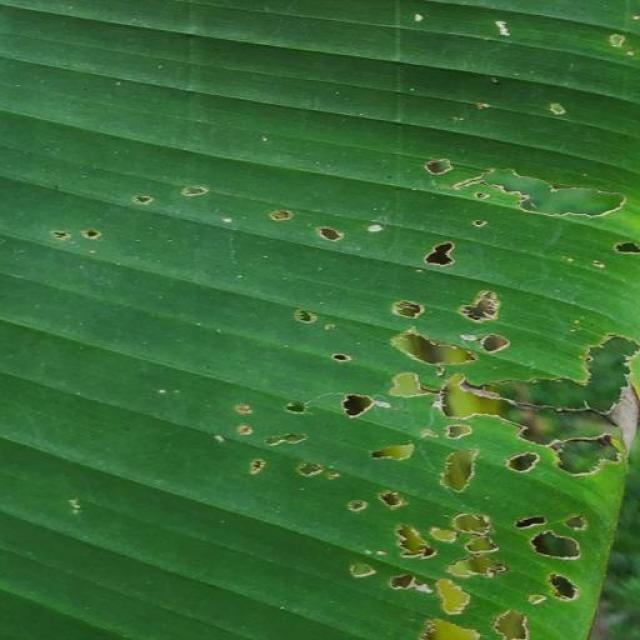Black_rot: (201, 270, 640, 640), (385, 16, 640, 269), (48, 172, 416, 276)
